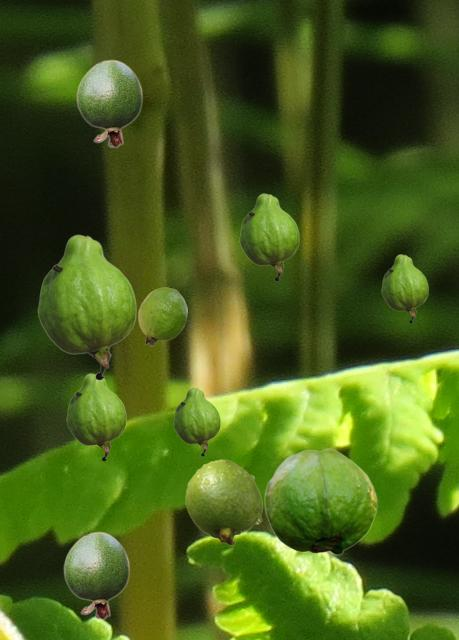guava: (37, 234, 135, 379), (264, 448, 376, 554), (185, 459, 261, 544), (63, 531, 129, 619), (76, 59, 142, 147), (239, 193, 298, 280), (66, 373, 125, 460), (381, 254, 427, 322), (173, 387, 219, 455), (138, 287, 186, 345)
